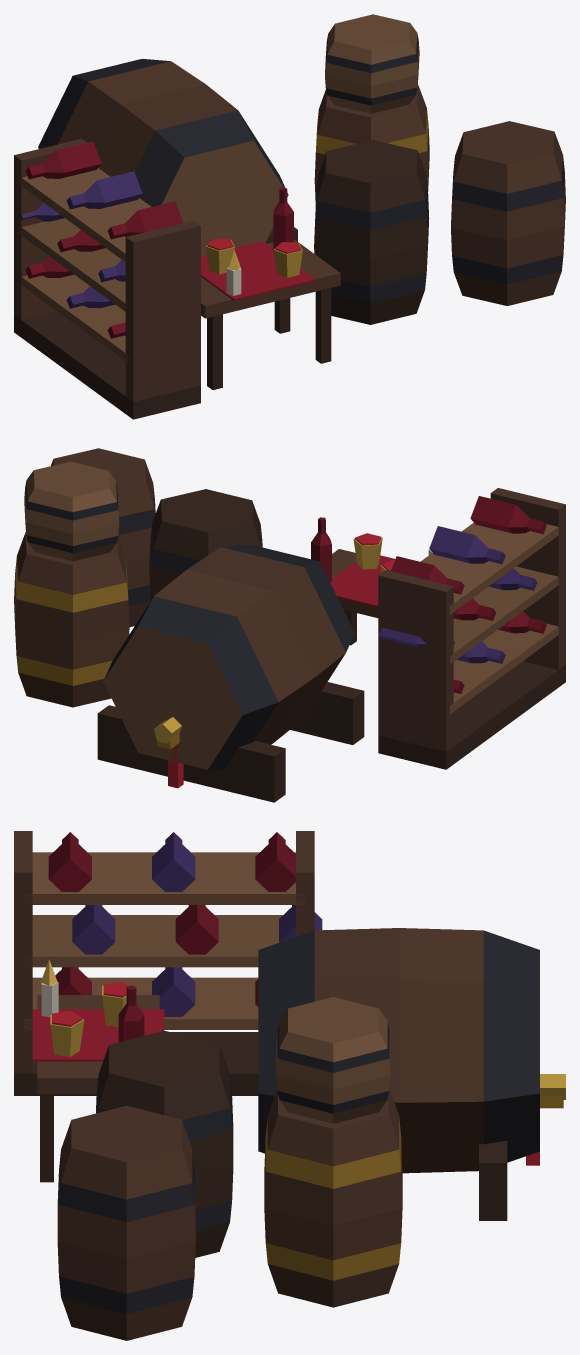
File: Decor_VampireCrypt_Cellar.fbx
The picture shows the model from 3 angles, top to bottom: view 1: azimuth 30°, elevation 25°; view 2: azimuth 150°, elevation 25°; view 3: azimuth 270°, elevation 25°; orthographic projection. The views are drawn at different scales.
Parts seen in each view (by area): view 1: Cellar_Body; view 2: Cellar_Body; view 3: Cellar_Body.
Part boxes in pixels (<box>): Cellar_Body: <box>14,14,565,419</box>; Cellar_Body: <box>14,448,565,802</box>; Cellar_Body: <box>14,831,565,1340</box>.
Bounding box in the file's own units: 14.1 × 5.8 × 11.2.
